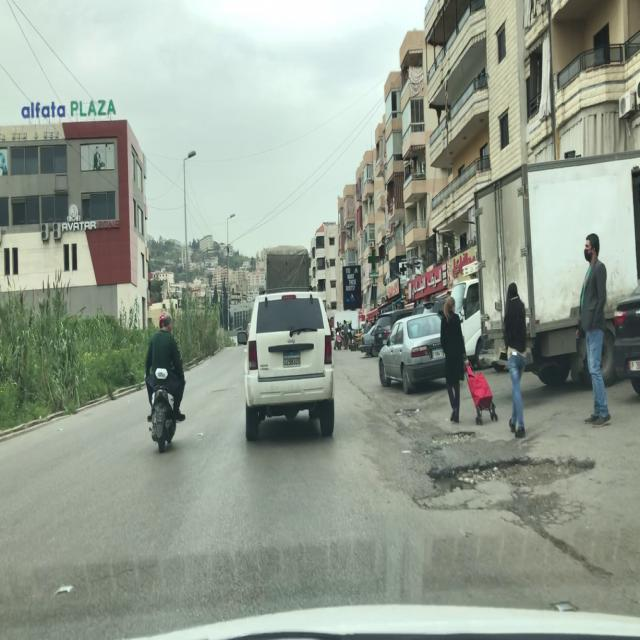Pothole: (426, 459, 600, 495), (434, 431, 476, 443), (394, 408, 421, 416)
